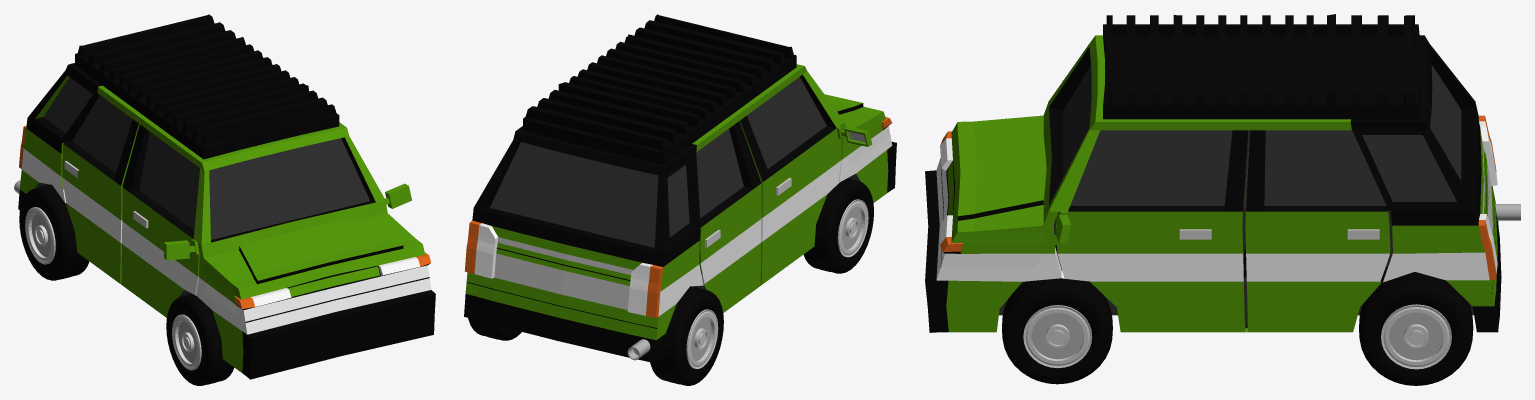
File: CR-CAR-8.fbx
3 views of the same model, side by side, from view 1: azimuth 30°, elevation 25°; view 2: azimuth 150°, elevation 25°; view 3: azimuth 270°, elevation 25° (orthographic). The views are drawn at different scales.
Parts seen in each view (by area): view 1: BODY.001, WHEEL.004, WHEEL.001; view 2: BODY.001, WHEEL.004, WHEEL.001, WHEEL.002; view 3: BODY.001, WHEEL.002, WHEEL.003.
Part boxes in pixels (x1,y1,x2,y2): BODY.001: (18, 14, 435, 379); WHEEL.004: (19, 184, 89, 280); WHEEL.001: (166, 294, 234, 385); BODY.001: (464, 14, 896, 363); WHEEL.004: (650, 286, 723, 385); WHEEL.001: (803, 178, 873, 273); WHEEL.002: (468, 318, 521, 340); BODY.001: (925, 14, 1501, 332); WHEEL.002: (1359, 272, 1473, 385); WHEEL.003: (1002, 278, 1112, 384).
Size of the model in its own units: 131 by 114 by 224.
